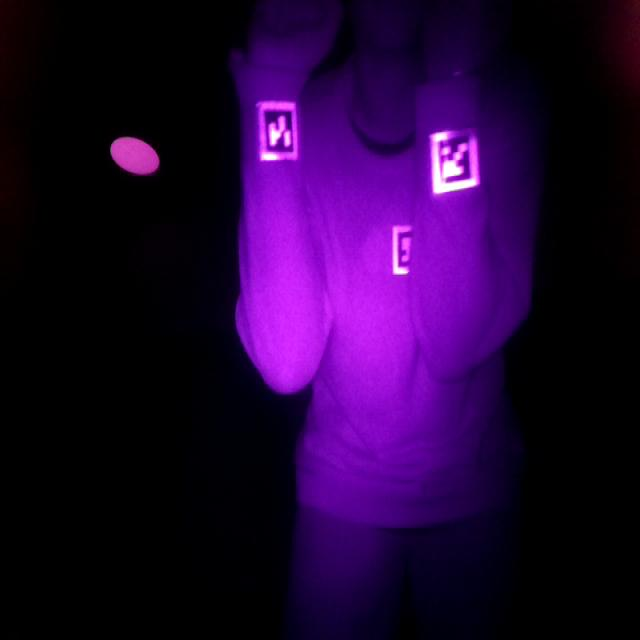Apriltags: (430, 124, 483, 192), (256, 100, 300, 160)
